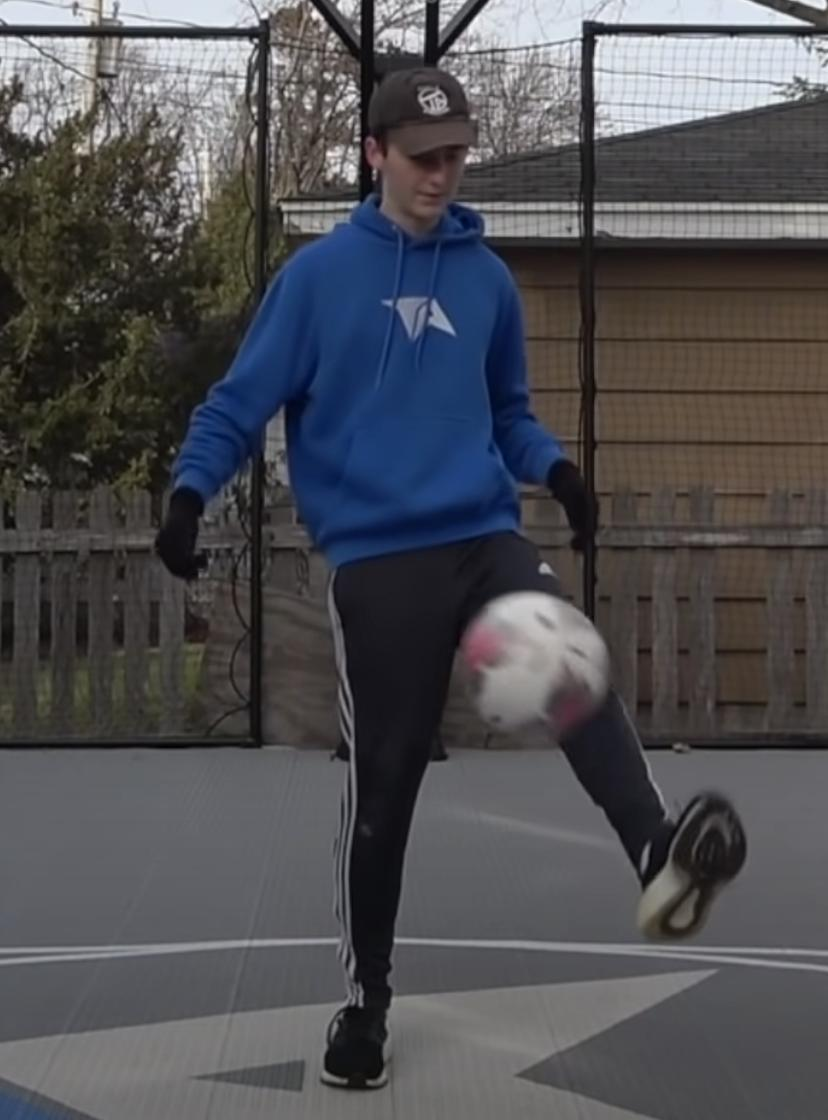ball: (459, 594, 608, 739)
foot: (625, 788, 745, 947), (317, 988, 396, 1093)
person: (151, 68, 746, 1086)
